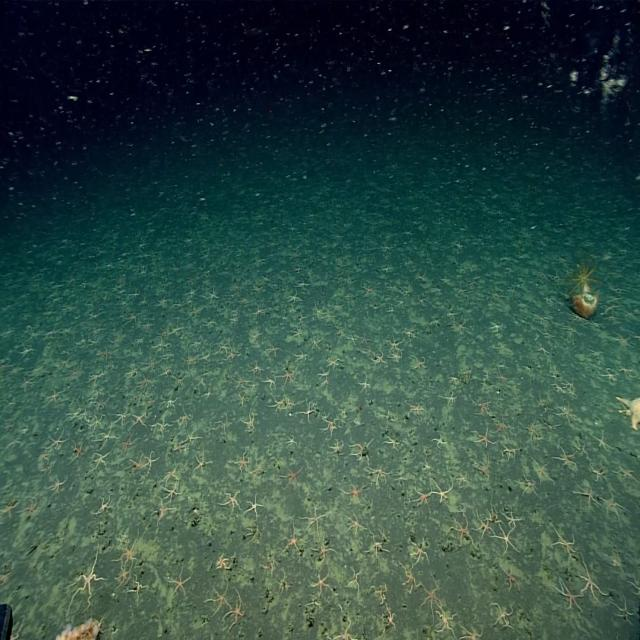brittle-stars: (58, 540, 109, 620), (579, 552, 613, 610), (548, 578, 587, 628), (539, 522, 581, 560), (162, 559, 195, 607), (415, 574, 442, 628), (304, 535, 342, 573), (446, 510, 478, 555), (203, 578, 232, 624), (597, 485, 633, 522), (300, 504, 333, 543), (343, 434, 376, 473), (608, 591, 639, 631), (364, 528, 391, 571), (394, 562, 423, 602), (488, 521, 521, 556), (112, 528, 140, 568), (277, 522, 305, 562), (487, 598, 517, 635), (320, 614, 362, 640), (337, 477, 370, 510), (275, 463, 305, 499), (406, 529, 432, 570), (140, 500, 179, 527), (222, 588, 246, 630), (550, 444, 582, 475), (609, 456, 640, 487), (526, 456, 556, 488), (496, 560, 522, 596), (565, 483, 601, 509), (469, 421, 497, 454), (510, 473, 544, 500), (431, 607, 459, 639), (469, 450, 493, 487), (190, 447, 216, 481), (212, 488, 242, 517), (127, 571, 151, 607), (110, 558, 135, 592), (210, 544, 234, 578), (343, 508, 369, 539), (308, 567, 336, 595), (467, 392, 495, 420), (86, 488, 112, 518), (124, 449, 146, 484), (488, 411, 512, 443), (229, 448, 252, 481), (588, 452, 609, 488), (366, 578, 391, 608), (552, 403, 582, 428), (89, 446, 112, 478), (158, 481, 185, 508), (93, 423, 120, 450), (294, 398, 320, 426), (497, 504, 525, 530), (15, 494, 44, 519), (241, 491, 265, 521), (471, 513, 495, 543), (171, 399, 194, 430), (427, 426, 450, 457), (42, 427, 69, 453), (430, 477, 455, 505), (570, 435, 595, 463), (360, 465, 393, 486), (401, 398, 431, 421), (146, 415, 174, 439), (382, 431, 406, 459), (519, 418, 542, 447), (345, 563, 364, 598), (377, 400, 399, 430), (528, 339, 558, 361), (550, 378, 576, 403), (449, 314, 474, 340), (45, 473, 69, 500), (211, 411, 235, 438), (255, 554, 279, 580), (499, 441, 523, 467), (275, 361, 298, 388), (3, 428, 26, 455), (242, 521, 264, 549), (226, 369, 254, 391), (412, 488, 436, 513), (195, 346, 218, 372), (538, 415, 561, 441), (380, 601, 398, 634), (6, 612, 27, 640), (323, 436, 347, 460), (434, 390, 458, 414), (148, 334, 172, 358), (120, 306, 144, 330), (249, 298, 272, 323), (407, 351, 429, 377), (138, 351, 164, 372), (141, 386, 161, 413), (182, 426, 204, 450), (159, 463, 180, 488), (140, 449, 160, 475), (385, 329, 405, 355), (451, 276, 471, 302), (617, 355, 637, 381), (160, 388, 179, 415), (249, 458, 268, 485), (593, 427, 612, 454), (68, 438, 85, 468), (623, 567, 640, 597), (481, 505, 505, 526), (204, 277, 221, 306), (460, 359, 478, 386), (126, 409, 148, 431), (109, 407, 132, 428), (43, 388, 64, 411), (485, 318, 508, 339), (114, 435, 138, 455), (240, 408, 259, 433), (307, 329, 326, 354), (272, 576, 293, 598), (133, 371, 154, 393), (172, 369, 194, 390), (283, 326, 306, 346), (354, 370, 373, 394), (309, 297, 326, 323), (62, 404, 82, 426), (0, 497, 19, 520), (260, 372, 278, 396), (268, 393, 286, 417), (371, 346, 389, 370), (152, 288, 170, 312), (413, 290, 431, 314), (246, 359, 267, 379), (390, 470, 410, 491), (458, 625, 486, 640), (170, 318, 188, 341), (513, 368, 530, 392), (187, 282, 204, 306), (392, 292, 409, 316), (320, 418, 340, 438), (599, 364, 619, 384), (19, 372, 38, 393), (98, 344, 116, 366), (284, 286, 303, 306), (306, 594, 323, 616), (386, 349, 408, 366), (345, 328, 361, 351), (314, 369, 333, 388), (169, 439, 187, 459), (262, 340, 282, 358), (455, 498, 472, 519), (202, 314, 218, 336), (288, 254, 304, 276), (427, 313, 442, 336), (66, 364, 84, 383), (382, 278, 400, 297), (125, 388, 143, 407), (170, 295, 188, 314), (322, 356, 342, 373), (400, 324, 417, 344), (332, 320, 348, 341), (185, 302, 206, 318), (180, 352, 198, 370), (92, 396, 110, 414), (294, 275, 312, 293), (156, 322, 174, 340), (184, 270, 202, 288), (38, 458, 55, 477), (215, 339, 232, 358), (138, 317, 158, 333), (245, 328, 262, 346), (160, 349, 179, 365), (124, 362, 139, 382), (332, 292, 347, 312), (0, 562, 11, 589), (284, 432, 298, 453), (90, 413, 106, 431), (88, 370, 106, 386), (156, 365, 174, 381), (291, 350, 310, 365), (454, 470, 469, 489), (418, 456, 432, 476), (78, 402, 89, 427), (336, 400, 349, 421), (188, 335, 205, 351), (36, 448, 51, 466), (283, 397, 298, 415), (362, 341, 376, 360), (287, 300, 299, 322), (361, 278, 374, 298), (384, 302, 397, 322), (224, 348, 240, 364), (352, 413, 366, 431), (376, 522, 389, 540), (294, 310, 308, 326), (134, 332, 145, 352), (356, 333, 374, 345), (57, 354, 70, 370), (318, 408, 331, 424), (90, 388, 104, 402), (237, 391, 249, 407), (444, 372, 456, 387)
